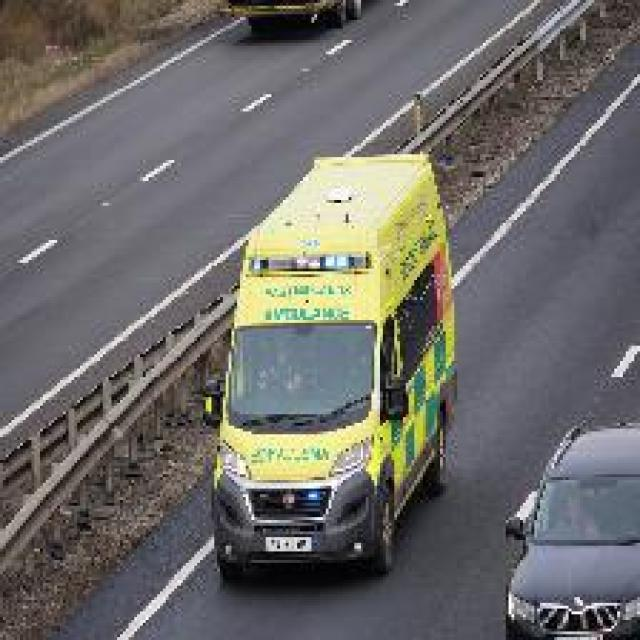emergency: (204, 150, 461, 582)
